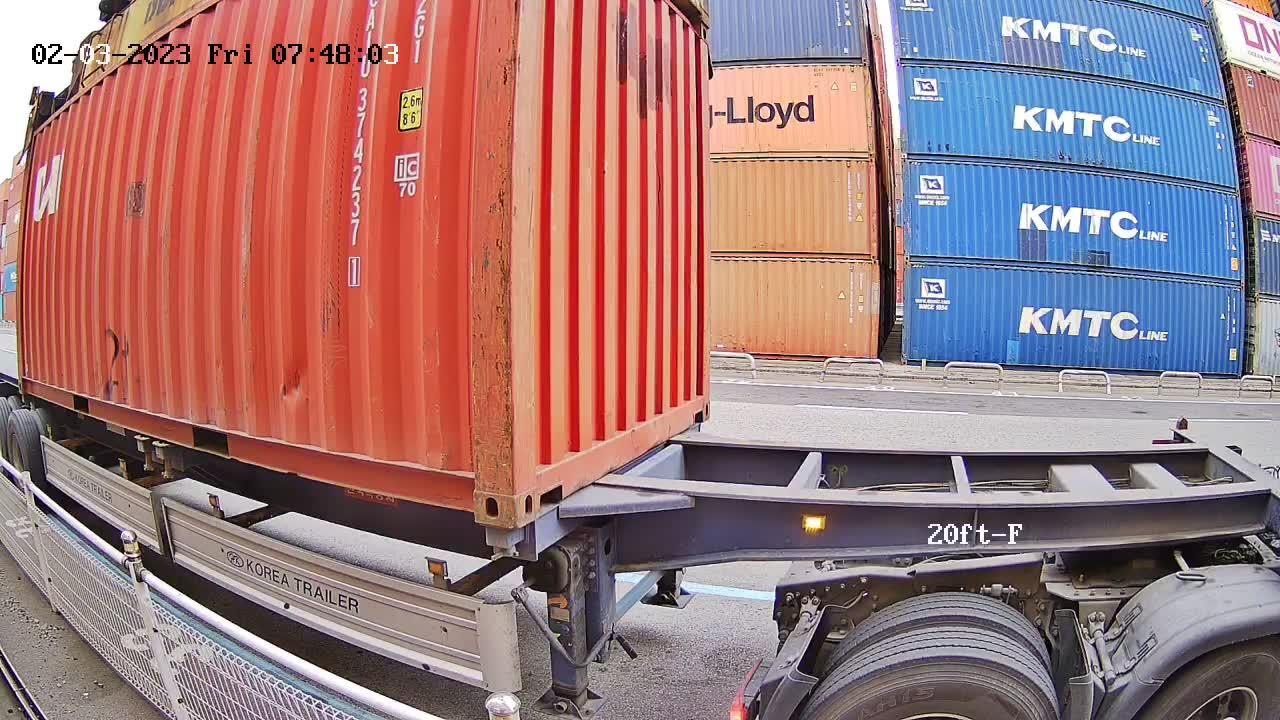Chassis: (483, 426, 698, 558)
Cone: (483, 523, 522, 563)
Hole_L: (514, 427, 566, 530)
Hole_R: (433, 442, 516, 530), (690, 380, 713, 428)
